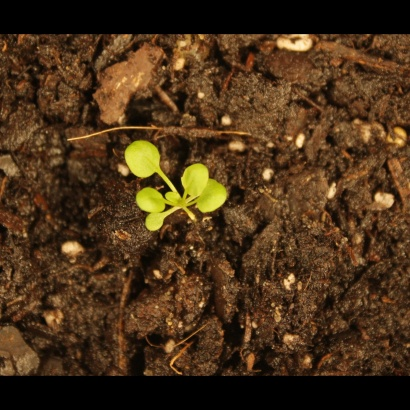leaf: (120, 138, 165, 179), (177, 162, 212, 199), (194, 180, 230, 213), (134, 187, 168, 215), (141, 210, 171, 234), (166, 188, 189, 211)
